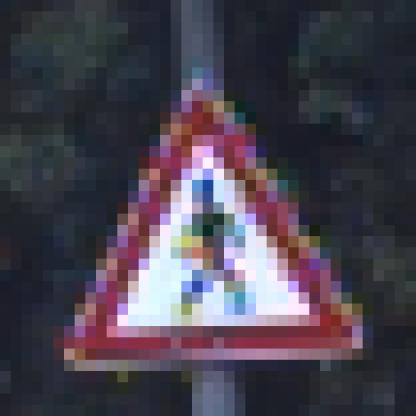crosswalk: (64, 90, 371, 380)
